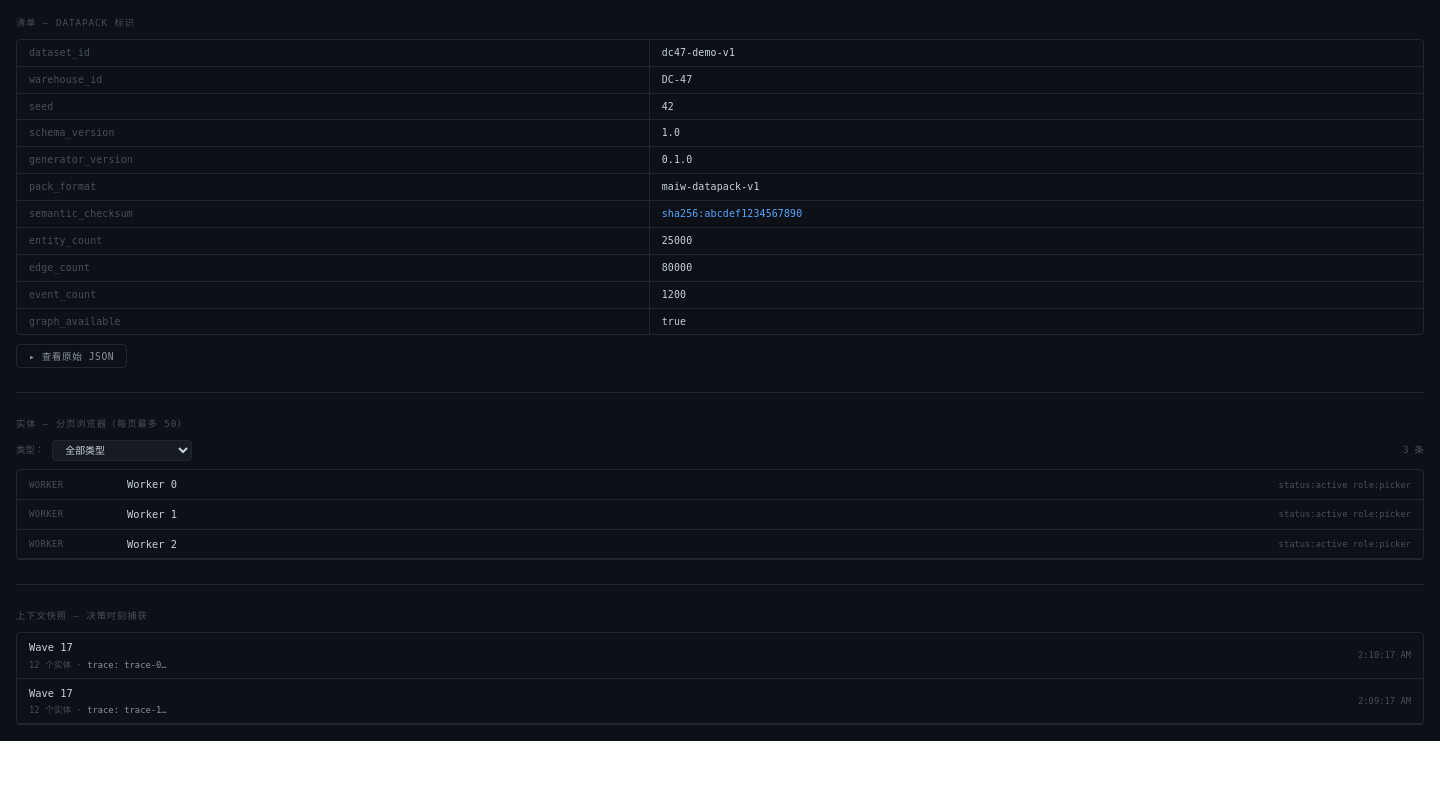
Test: Phase 17F — WorldRaw › R13: clicking entity row marks it selected (aria-pressed or visual)
This screenshot has width=1440, height=792.
Expected: the element with test id "entity-list" is shown, left=16, top=469, right=1424, bottom=560
What coordinates should you click on to do the following:
click the button with test id "entity-row-worker-0000"
I would click on:
 (46, 485)
Its box is left=17, top=470, right=1423, bottom=500.
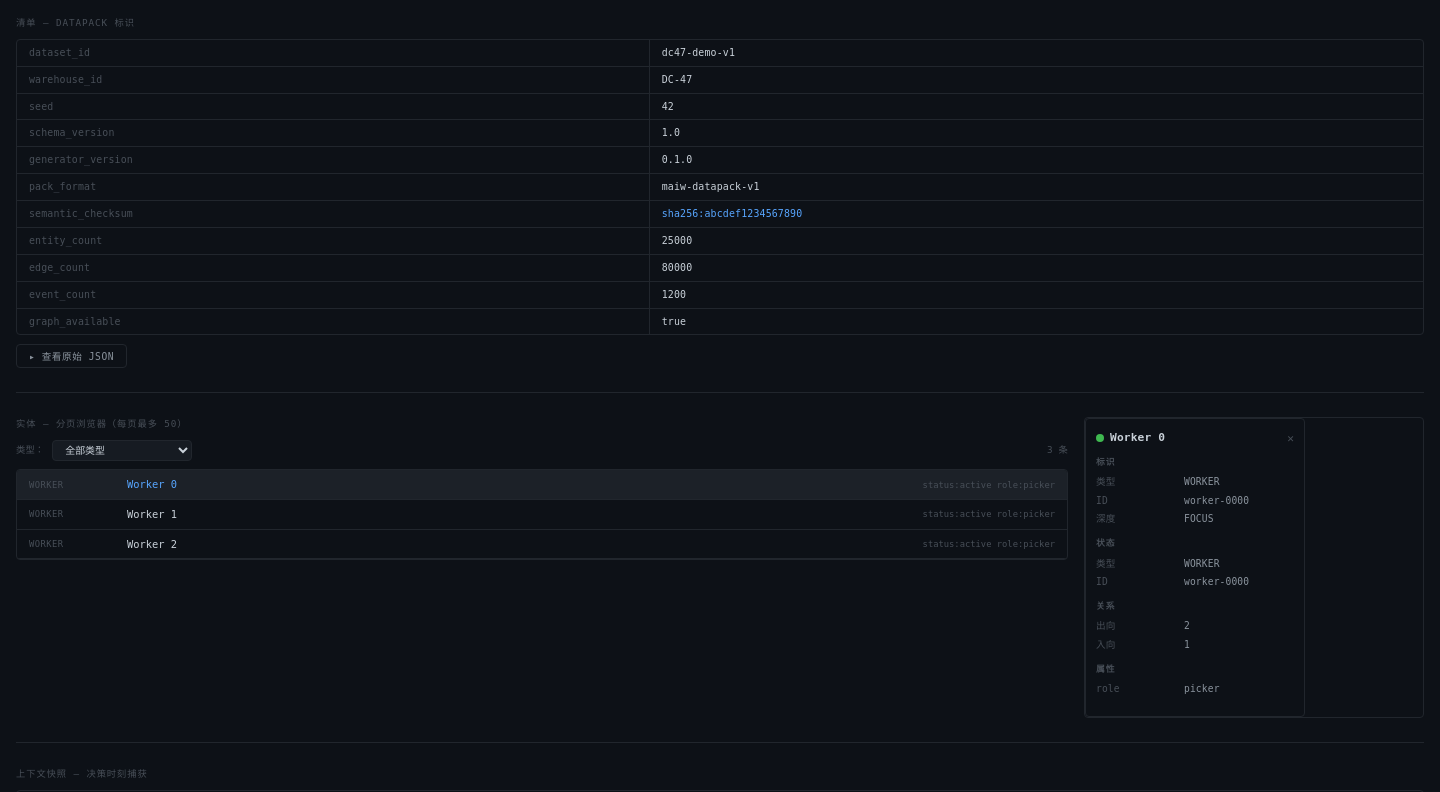
Result: the element with test id "node-inspector" is shown at left=1085, top=418, right=1305, bottom=717
